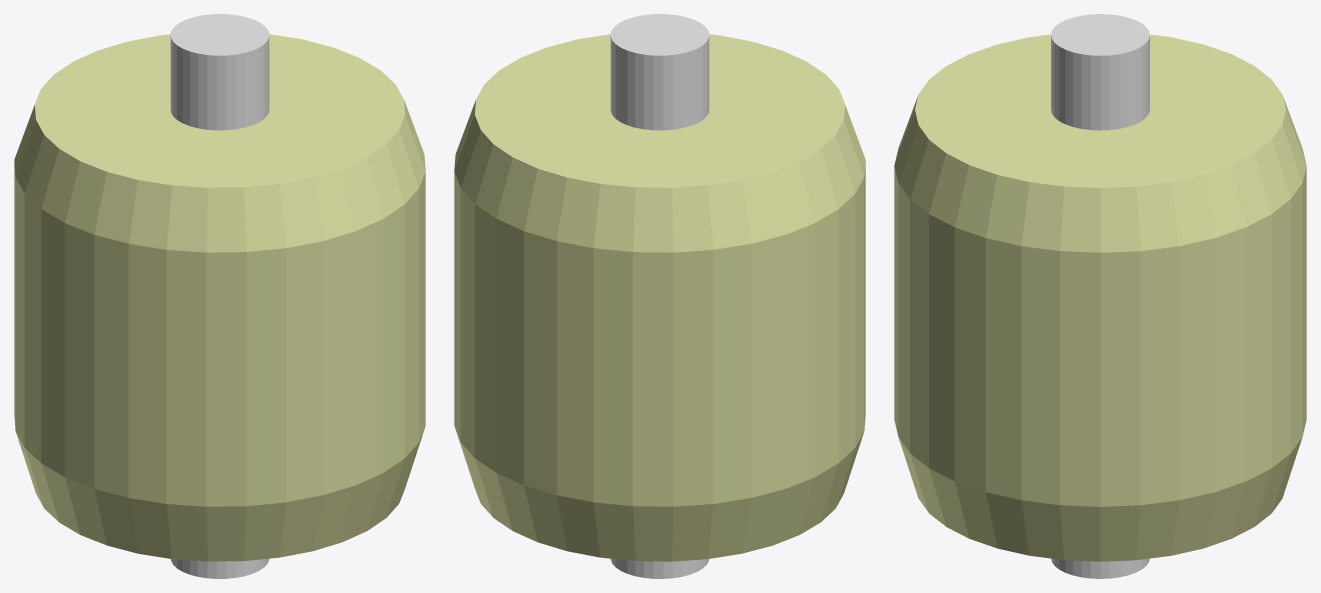
File: meat.fbx
The picture shows the model from 3 angles, left to right: view 1: azimuth 30°, elevation 25°; view 2: azimuth 150°, elevation 25°; view 3: azimuth 270°, elevation 25°; orthographic projection.
Parts seen in each view (by area): view 1: Cylinder.001; view 2: Cylinder.001; view 3: Cylinder.001.
Boxes of the visible parts, left/top/right/bottom form: Cylinder.001: left=14, top=14, right=425, bottom=578; Cylinder.001: left=454, top=14, right=865, bottom=578; Cylinder.001: left=894, top=14, right=1306, bottom=578.
Bounding box in the file's own units: 200 × 280 × 200.
